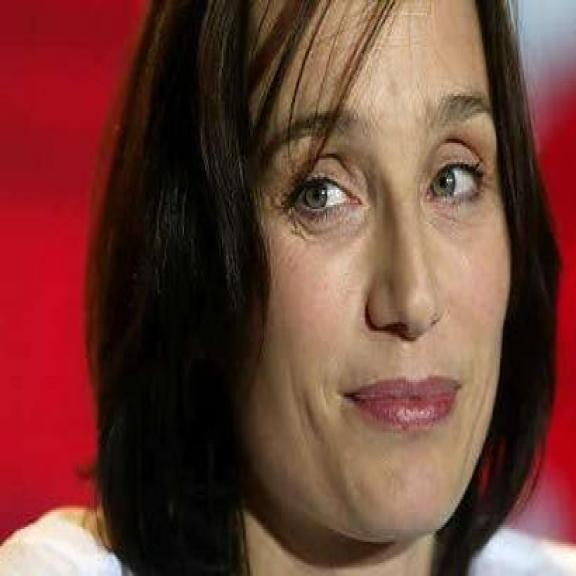face: (223, 0, 530, 555)
